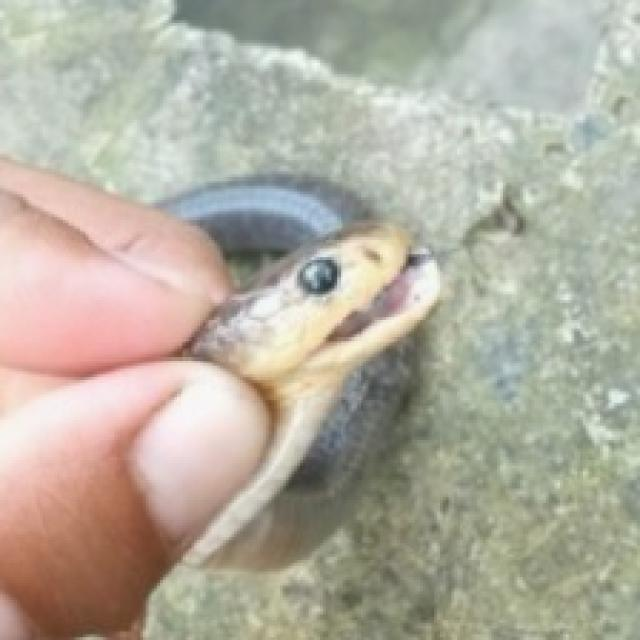reddish rat snake: (162, 175, 441, 569)
